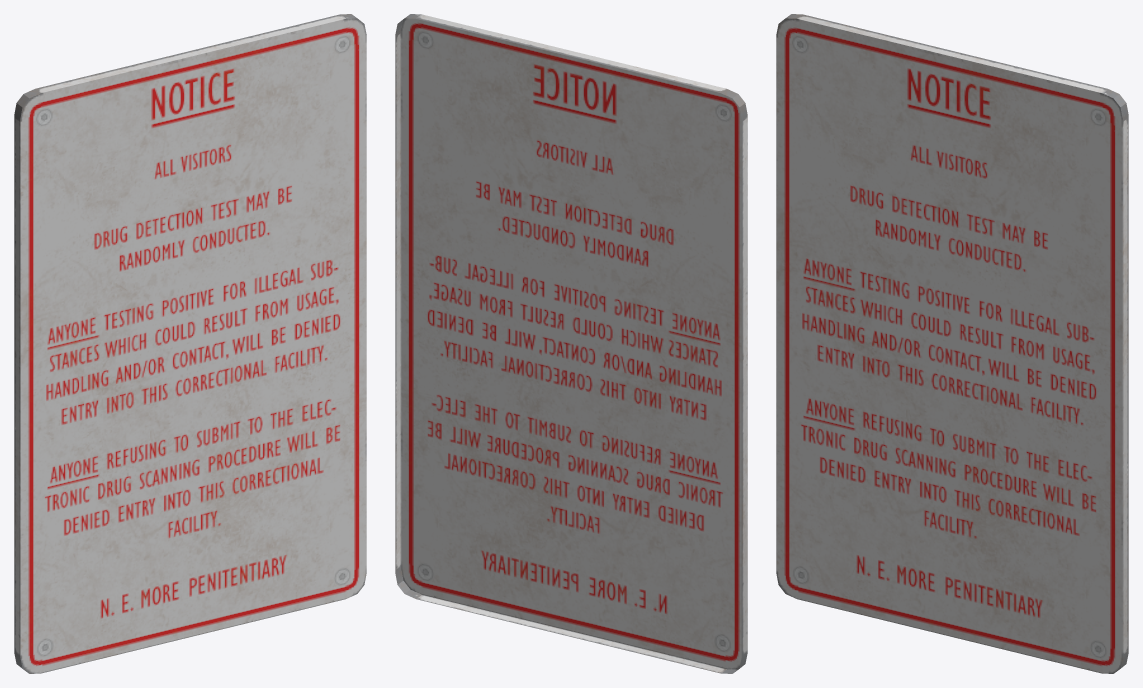
The model's file is SM_Sign_04.fbx.
The picture shows the model from 3 angles, left to right: view 1: azimuth 30°, elevation 25°; view 2: azimuth 150°, elevation 25°; view 3: azimuth 330°, elevation 25°; orthographic projection.
Parts seen in each view (by area): view 1: SM_Sign_04; view 2: SM_Sign_04; view 3: SM_Sign_04.
Boxes of the visible parts, left/top/right/bottom form: SM_Sign_04: left=14, top=14, right=366, bottom=673; SM_Sign_04: left=395, top=14, right=747, bottom=673; SM_Sign_04: left=776, top=14, right=1128, bottom=673.
Bounding box in the file's own units: 50 × 1.5 × 80.
Materials: 1 (1 with a texture image).
